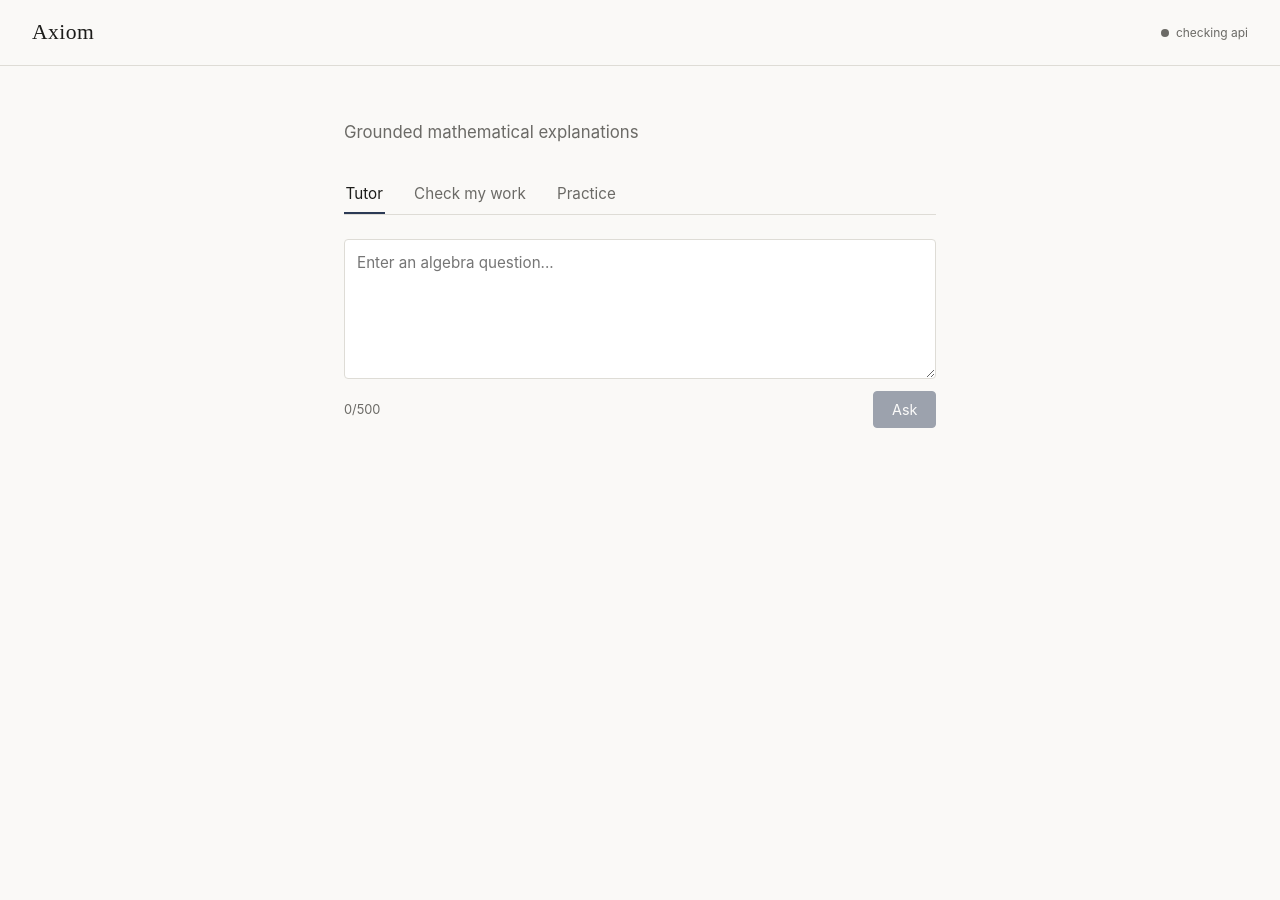
Test: App › submits the typed question and renders the returned kb answer
Type "Solve 2x = 4" into the text box with placeholder "Enter an algebra question..." at (640, 309), box [344, 239, 936, 379]
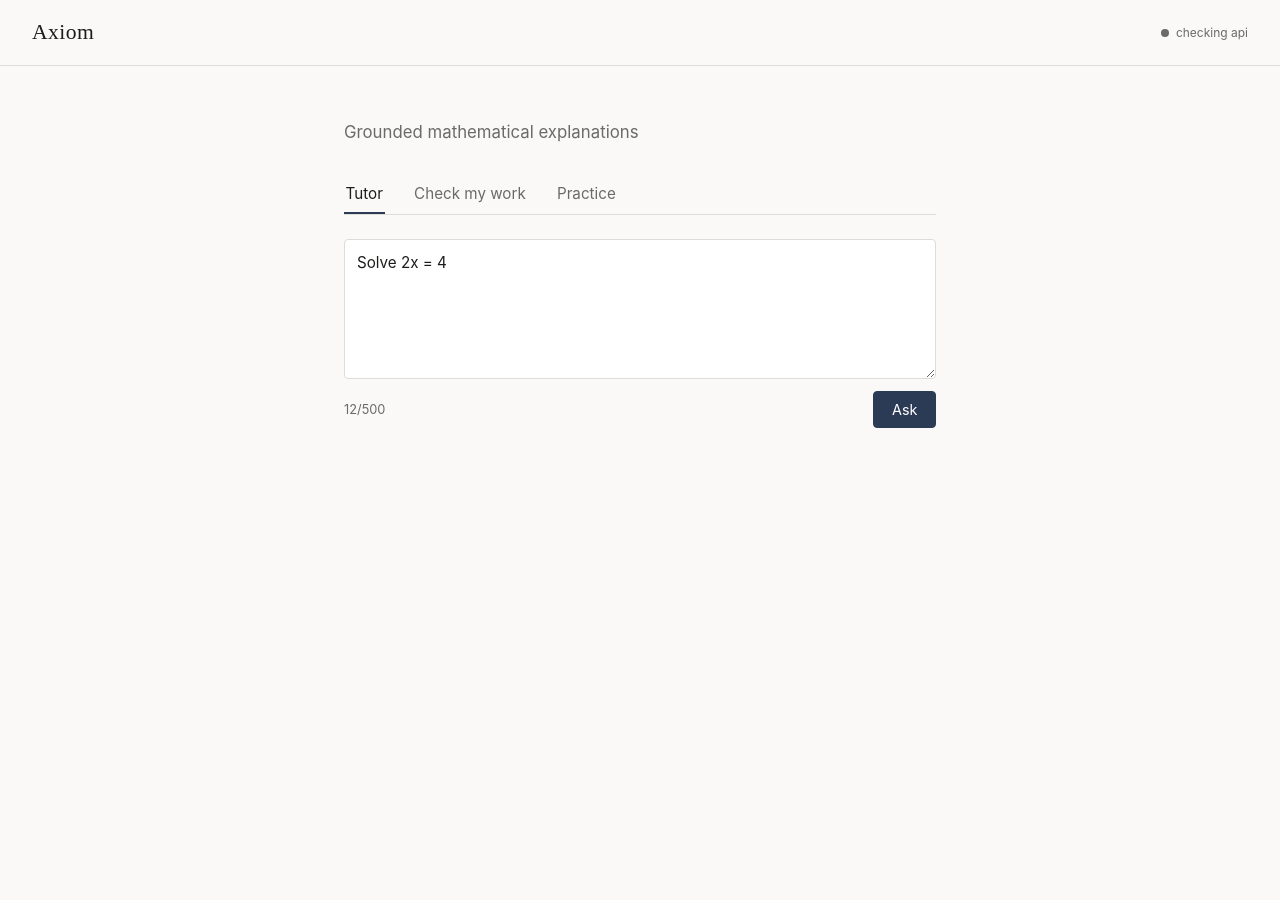
Click the button "Ask" at (905, 409), box [873, 391, 936, 428]
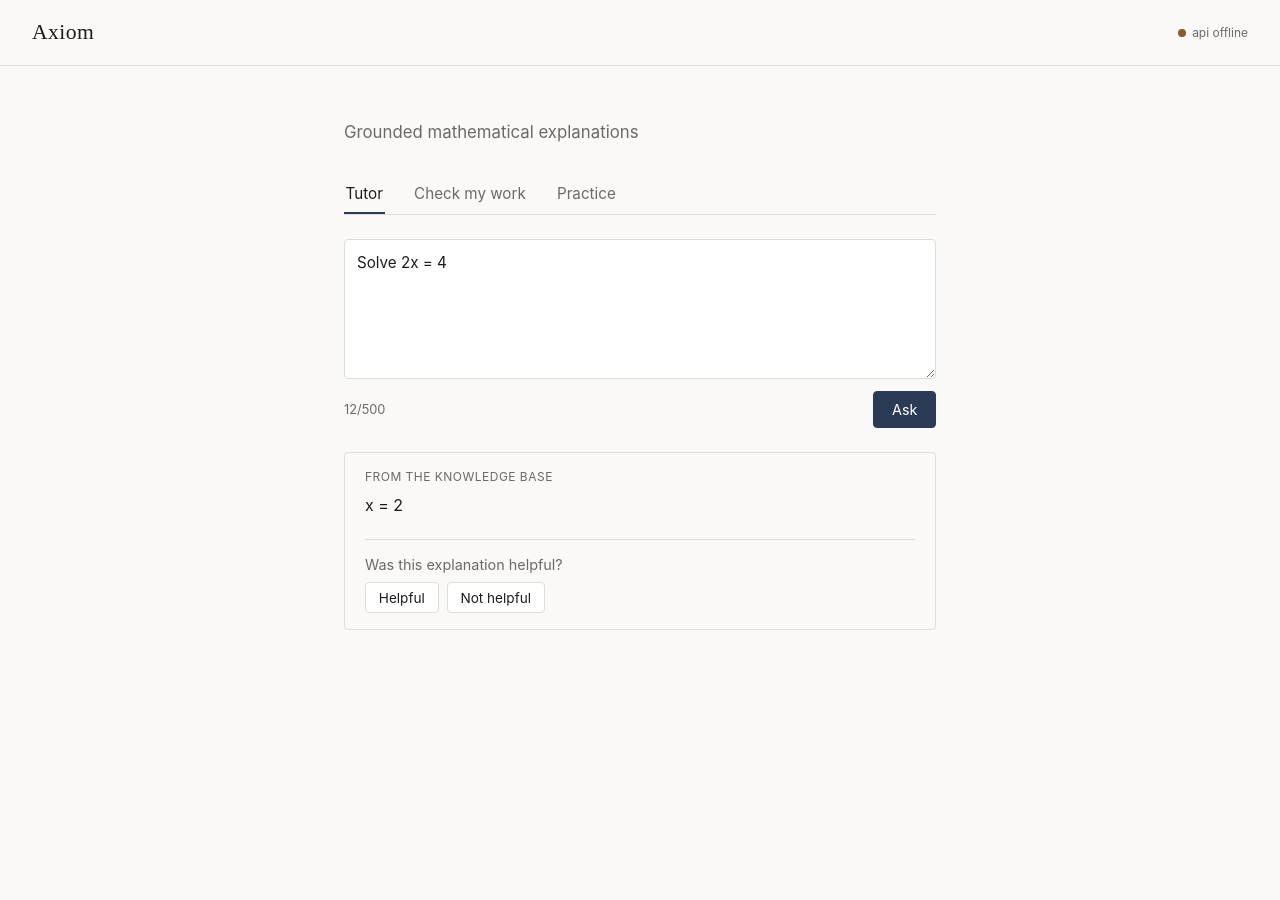
Check: the text "x = 2" is shown, box [365, 495, 403, 515]
